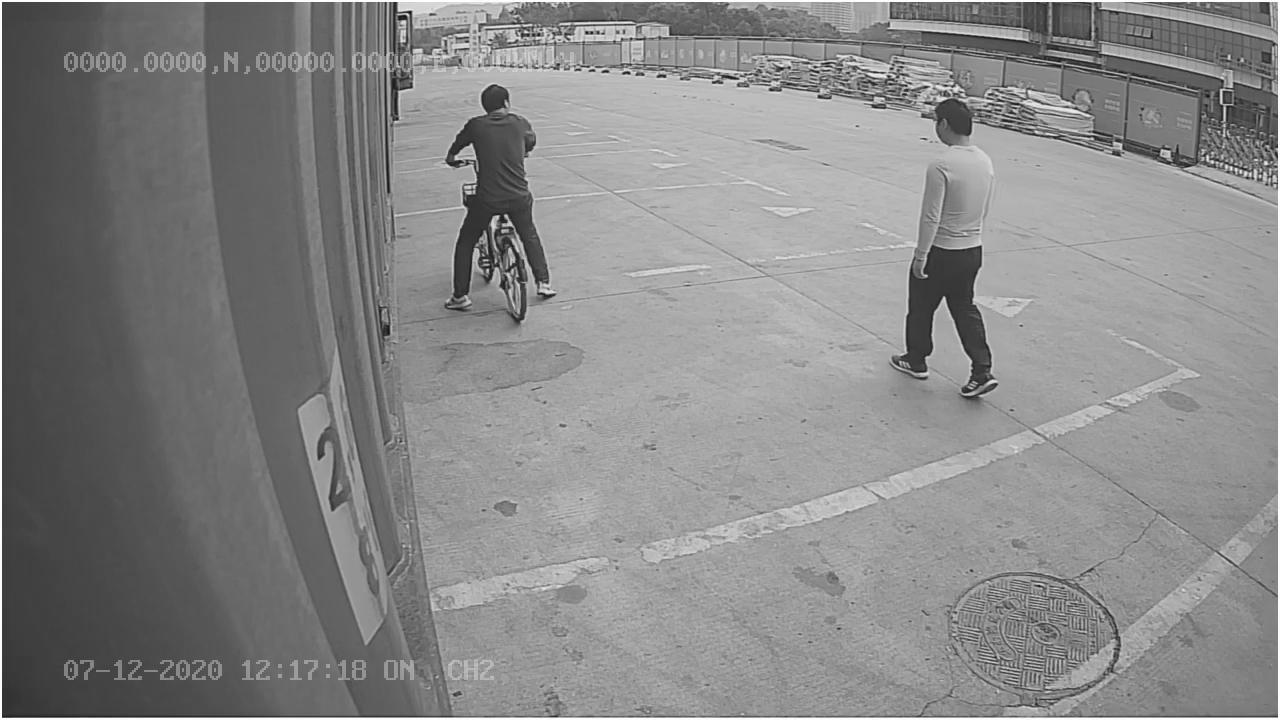person: (886, 97, 999, 397)
